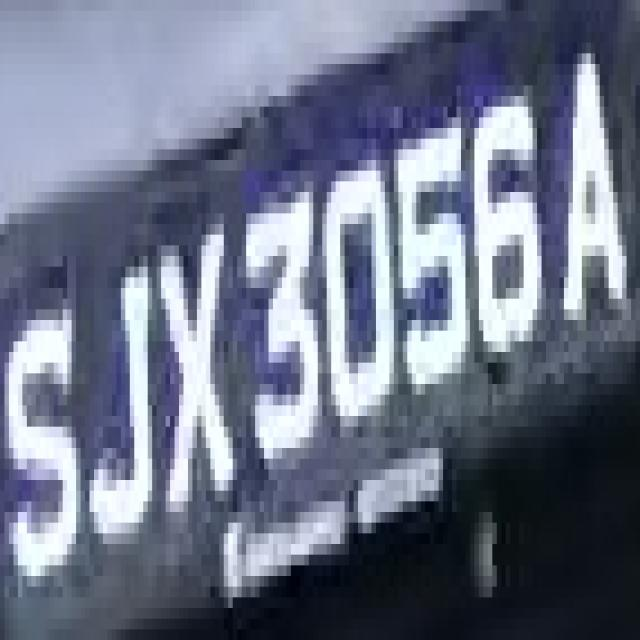0: (309, 106, 394, 426)
3: (237, 181, 331, 491)
5: (380, 107, 470, 405)
6: (457, 75, 546, 416)
A: (542, 42, 636, 394)
J: (85, 245, 170, 576)
S: (0, 4, 1, 11)
X: (138, 224, 250, 533)
